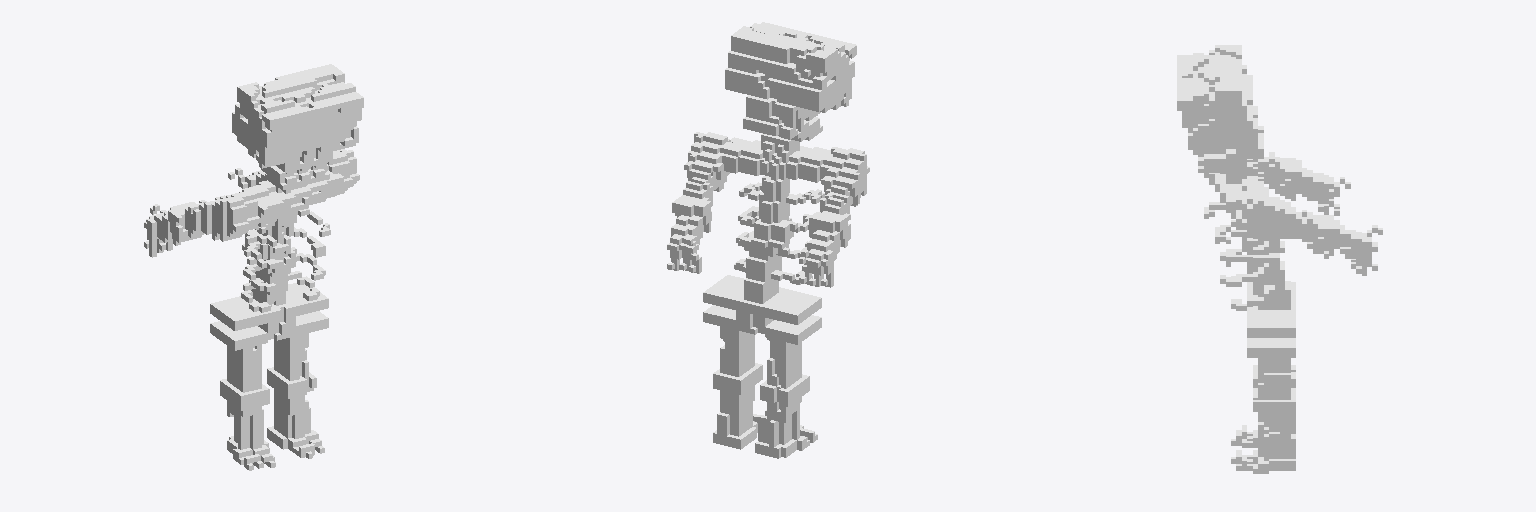
The model's file is esqueleto2-1.obj.
3 renders of one model, left to right at view 1: azimuth 30°, elevation 25°; view 2: azimuth 150°, elevation 25°; view 3: azimuth 270°, elevation 25°, orthographic.
Parts seen in each view (by area): view 1: object 1; view 2: object 1; view 3: object 1.
Boxes of the visible parts, <box> form: object 1: <box>144,64,363,470</box>; object 1: <box>667,22,869,458</box>; object 1: <box>1177,45,1382,473</box>.
Size of the model in its own units: 3.6 by 7.8 by 3.8.